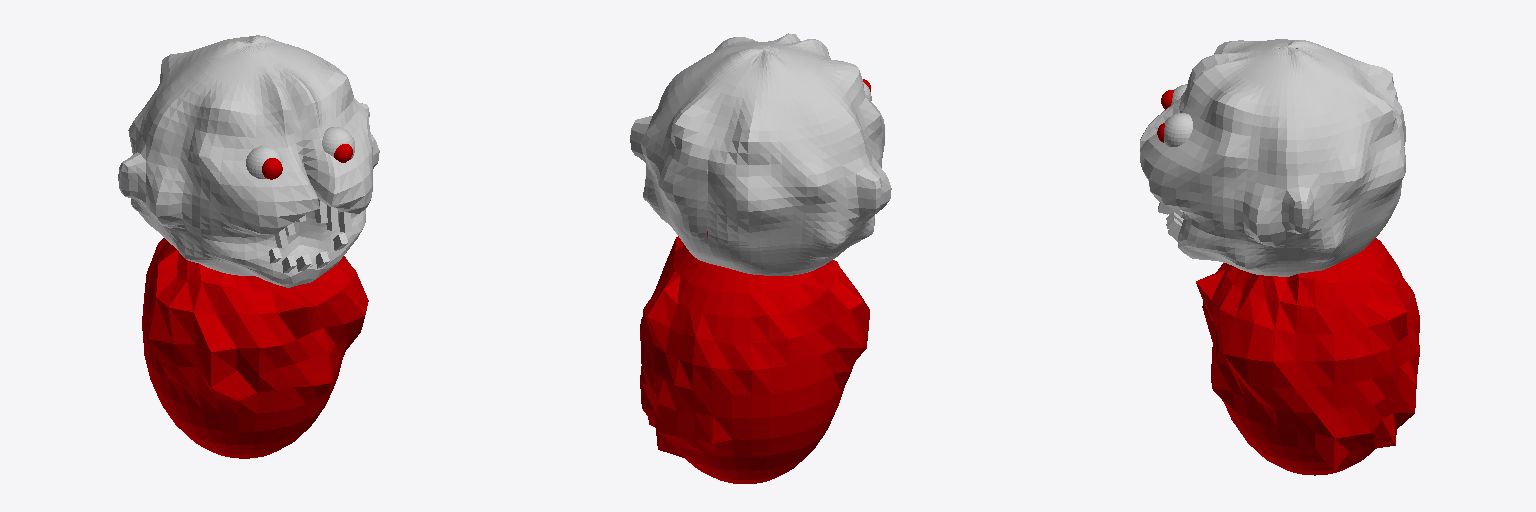
File: ghost.obj
The picture shows the model from 3 angles: view 1: azimuth 30°, elevation 25°; view 2: azimuth 150°, elevation 25°; view 3: azimuth 270°, elevation 25°; orthographic projection.
Visible parts, largest first — view 1: Sphere, Sphere.006, Sphere.002, Sphere.003; view 2: Sphere, Sphere.006; view 3: Sphere, Sphere.006, Sphere.003.
Part boxes in pixels (left/top/right/bottom): Sphere: left=118, top=35, right=379, bottom=287; Sphere.006: left=142, top=238, right=368, bottom=458; Sphere.002: left=246, top=146, right=282, bottom=178; Sphere.003: left=322, top=127, right=354, bottom=159; Sphere: left=630, top=33, right=891, bottom=275; Sphere.006: left=640, top=231, right=869, bottom=483; Sphere: left=1140, top=39, right=1405, bottom=276; Sphere.006: left=1196, top=238, right=1419, bottom=475; Sphere.003: left=1164, top=113, right=1192, bottom=146.
Bounding box in the file's own units: 2.38 × 3.83 × 2.32.